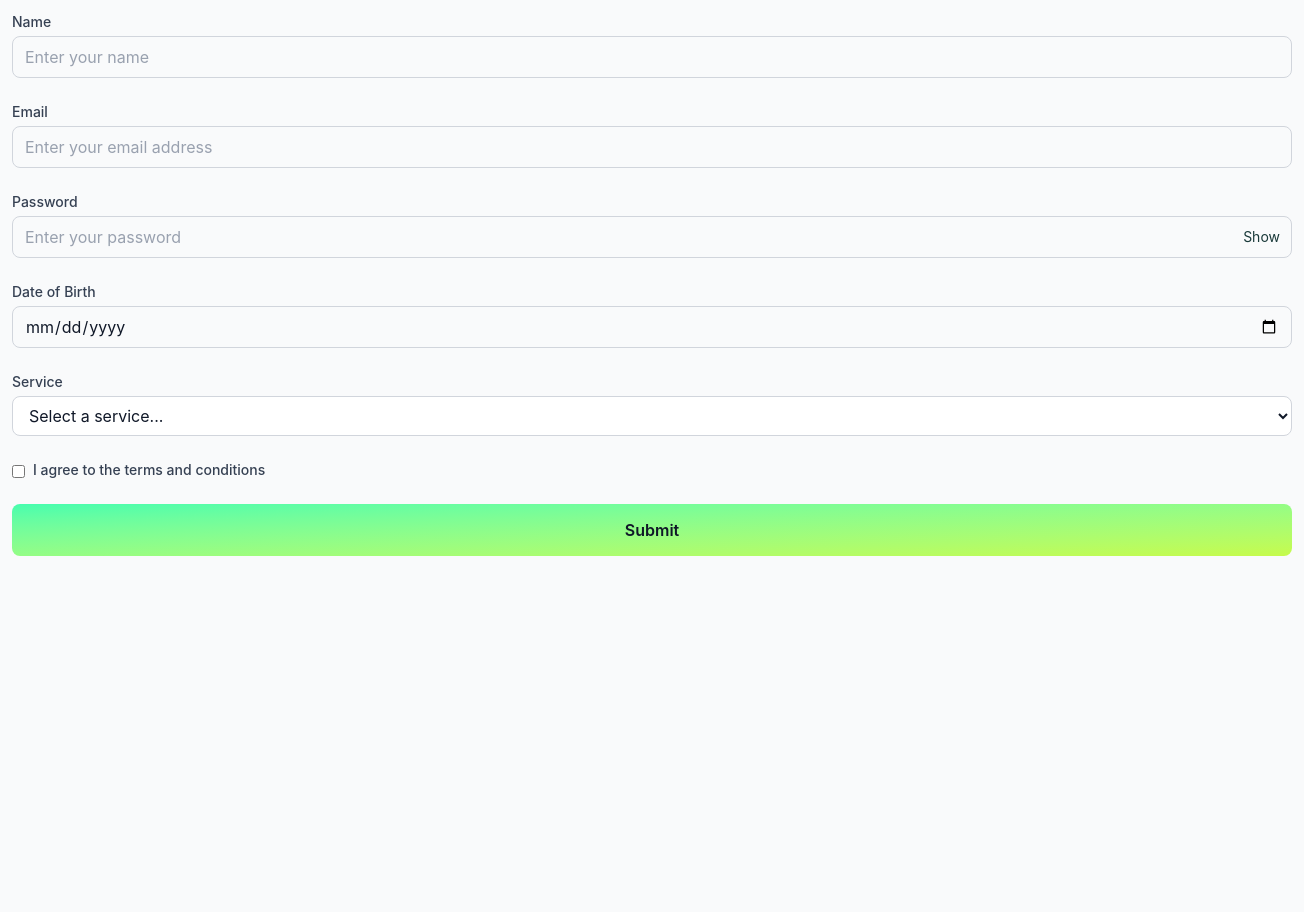
ServiceForm › clears the terms error immediately when the checkbox is checked
Submit the form, box [12, 12, 1292, 556]
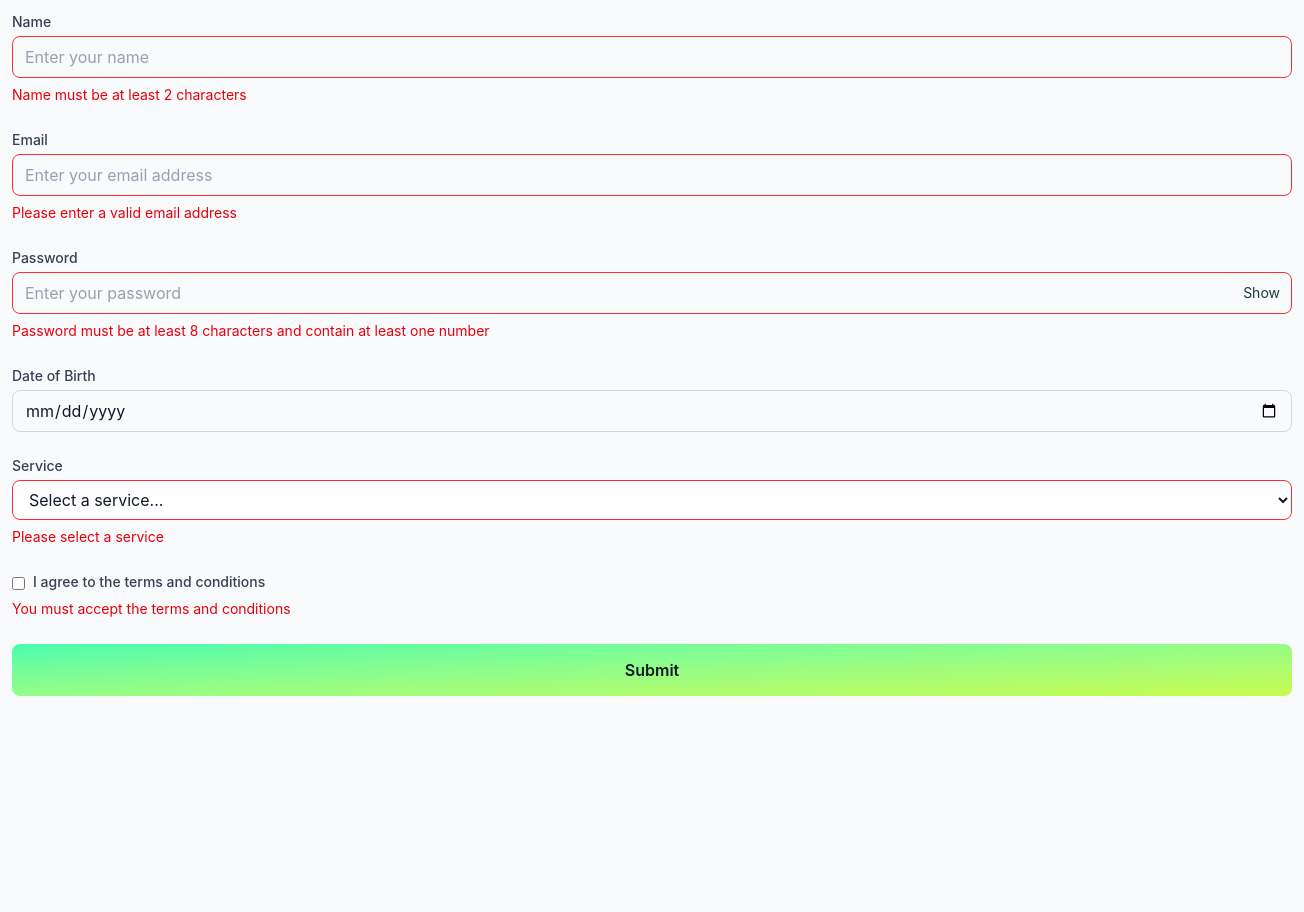
Expected: the message with test id "error" reads "You must accept the terms and conditions", [12, 600, 290, 617]
Click the checkbox labelled "I agree to the terms and conditions" at (18, 583), box [12, 576, 25, 590]
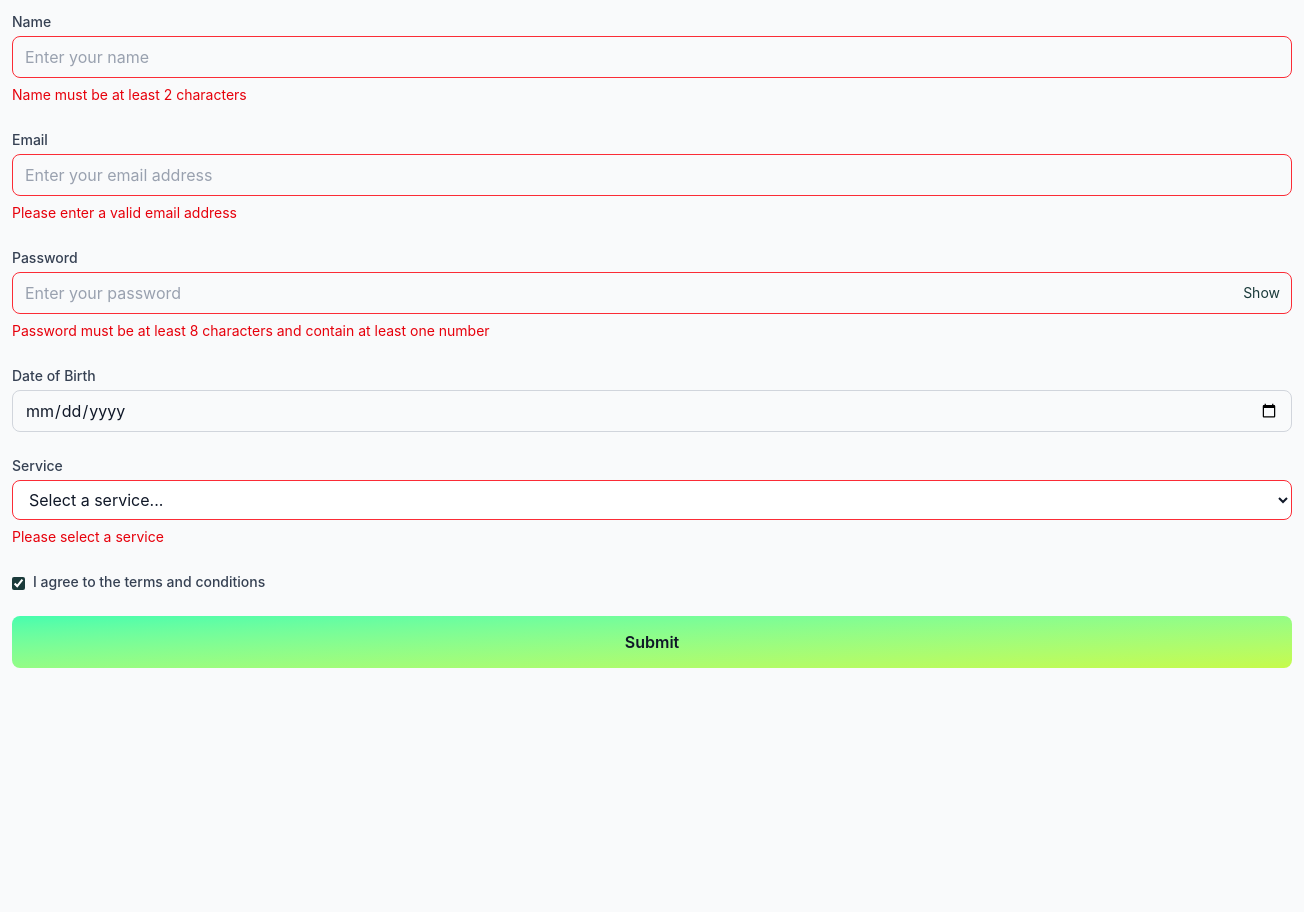
Expected: the message with test id "error" no longer shows "You must accept the terms and conditions"
